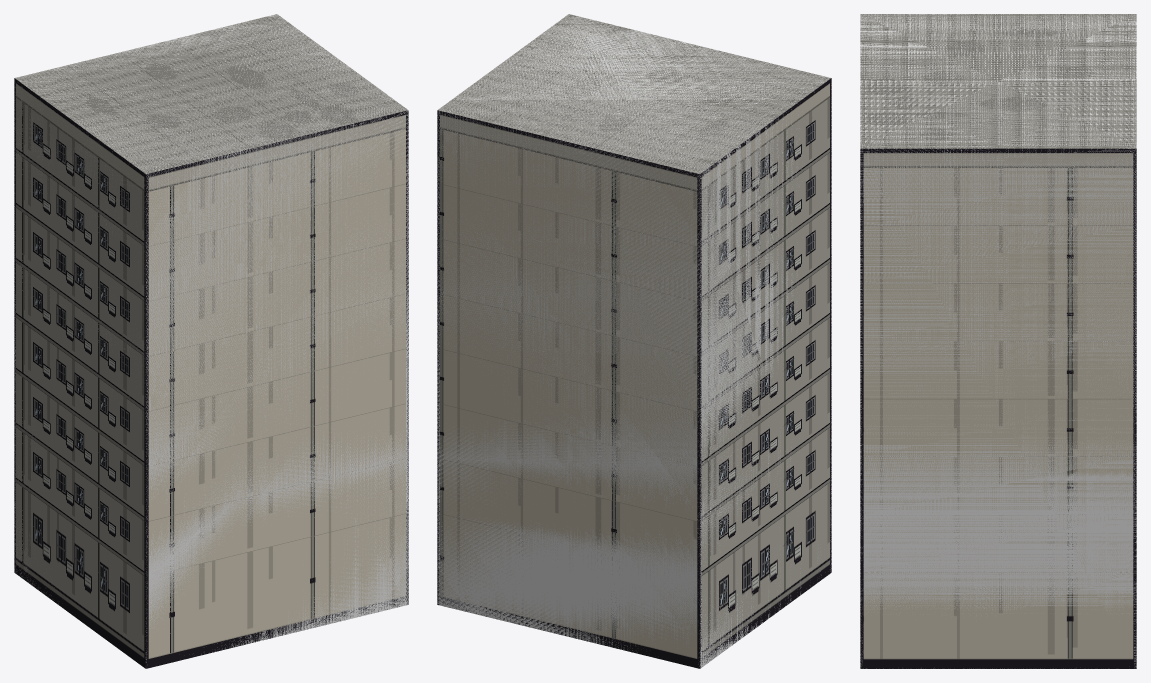
3 renders of one model, left to right at view 1: azimuth 30°, elevation 25°; view 2: azimuth 150°, elevation 25°; view 3: azimuth 270°, elevation 25°, orthographic. The views are drawn at different scales.
Visible parts, largest first — view 1: 19D-W07, COL_19D-W07_0; view 2: 19D-W07, COL_19D-W07_0; view 3: 19D-W07, COL_19D-W07_0.
Part boxes in pixels (bbox=[...]): 19D-W07: bbox=[14, 14, 408, 668]; COL_19D-W07_0: bbox=[14, 14, 408, 668]; 19D-W07: bbox=[437, 14, 831, 668]; COL_19D-W07_0: bbox=[437, 14, 831, 668]; 19D-W07: bbox=[860, 14, 1136, 668]; COL_19D-W07_0: bbox=[860, 14, 1136, 668].
Size of the model in its own units: 15 by 27 by 13.
Materials: 1 (1 with a texture image).
